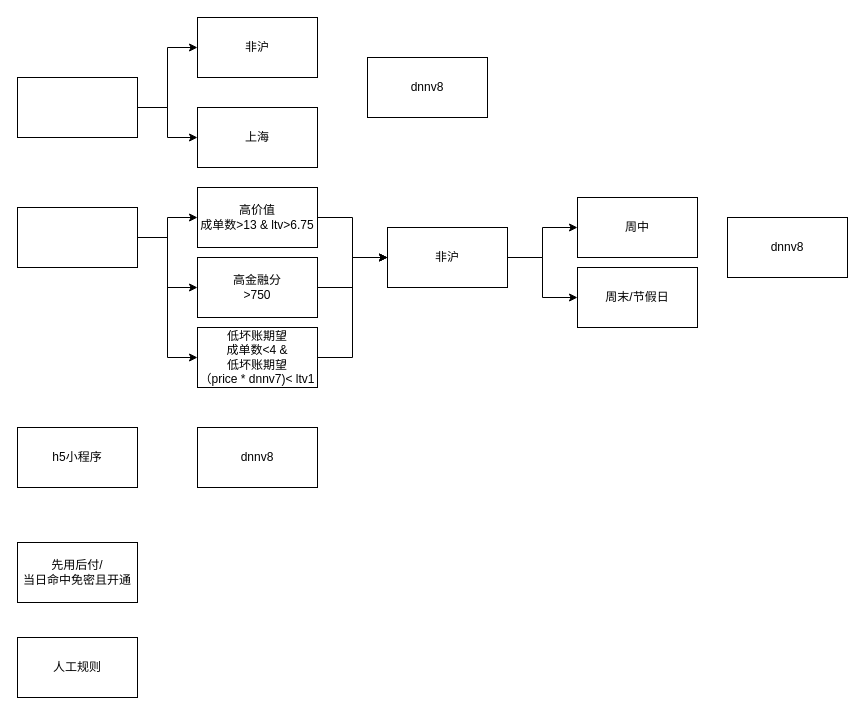
This 865x715 diagram has some shape labels left out. Here are the shapes that lost their labels. From the top down, the centre of each, then its label:
At [77,107]: "新客 用户uid/uuid/ mobile".
At [77,237]: "豁免用户 高价值/".
